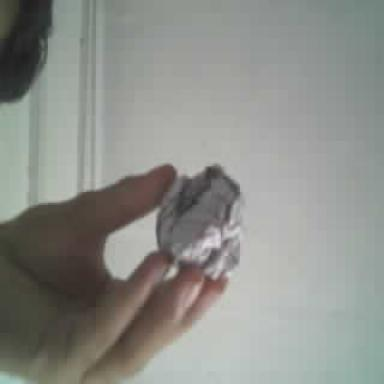paper: (156, 166, 242, 278)
